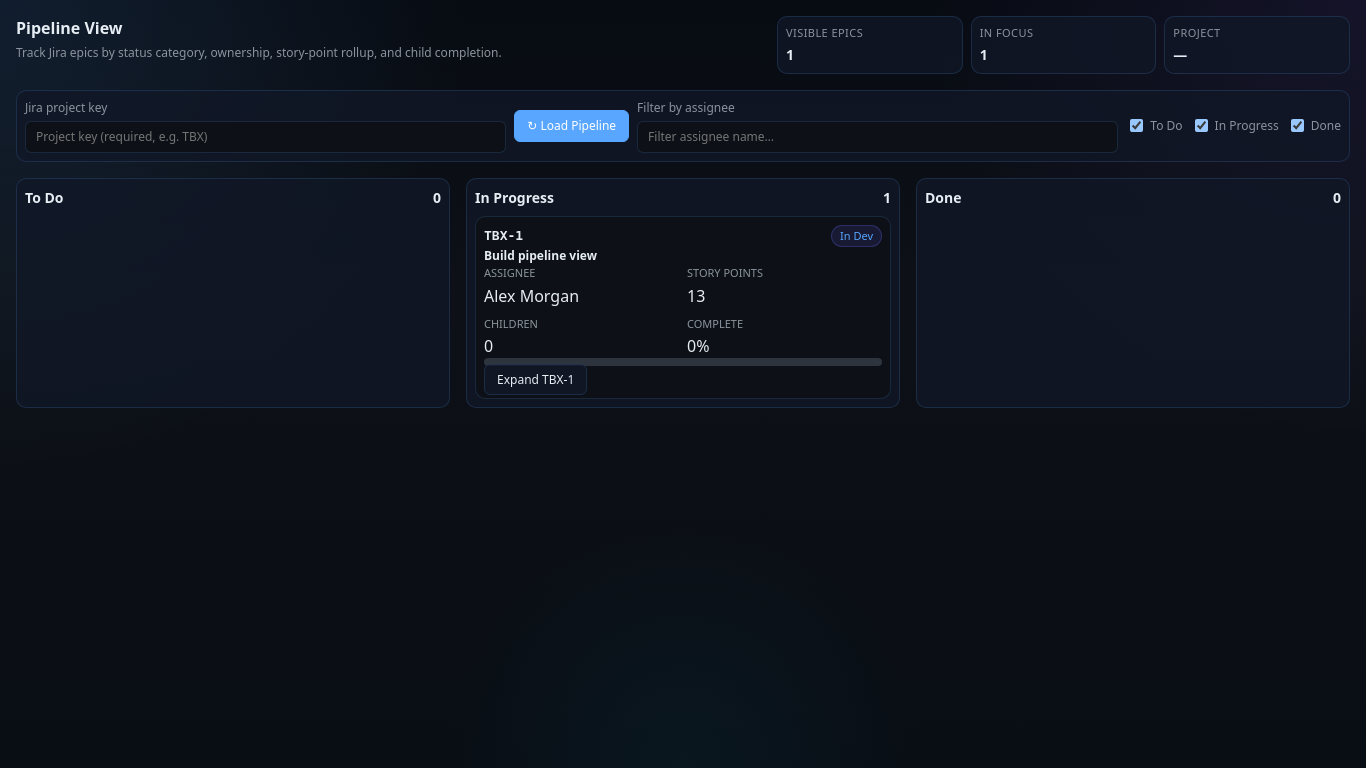
PipelineView › shows child-level loading feedback while an expanded epic fetch is in flight
Click the button with aria-label "Expand TBX-1".
click(504, 236)  # box [484,224,882,390]
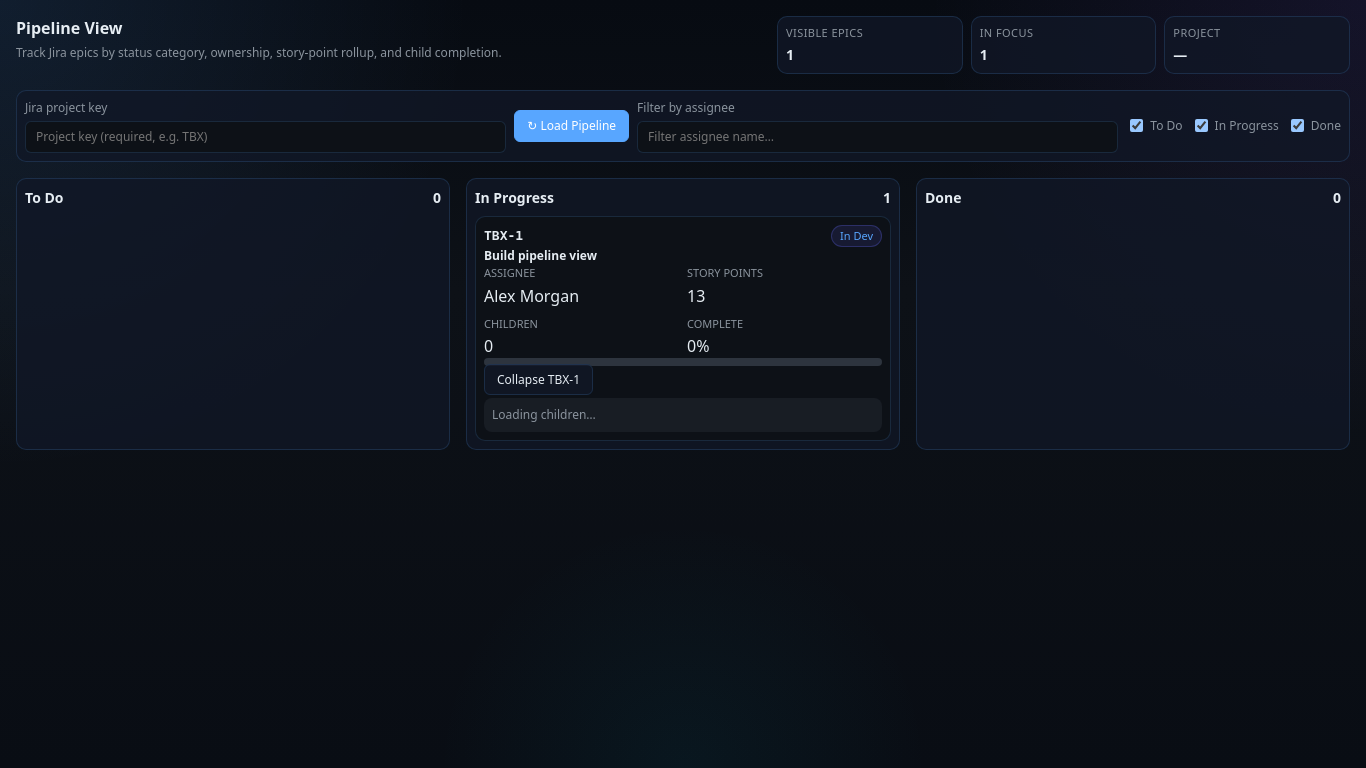
Result: the text "Loading children…" is shown at [484,398,882,432]
